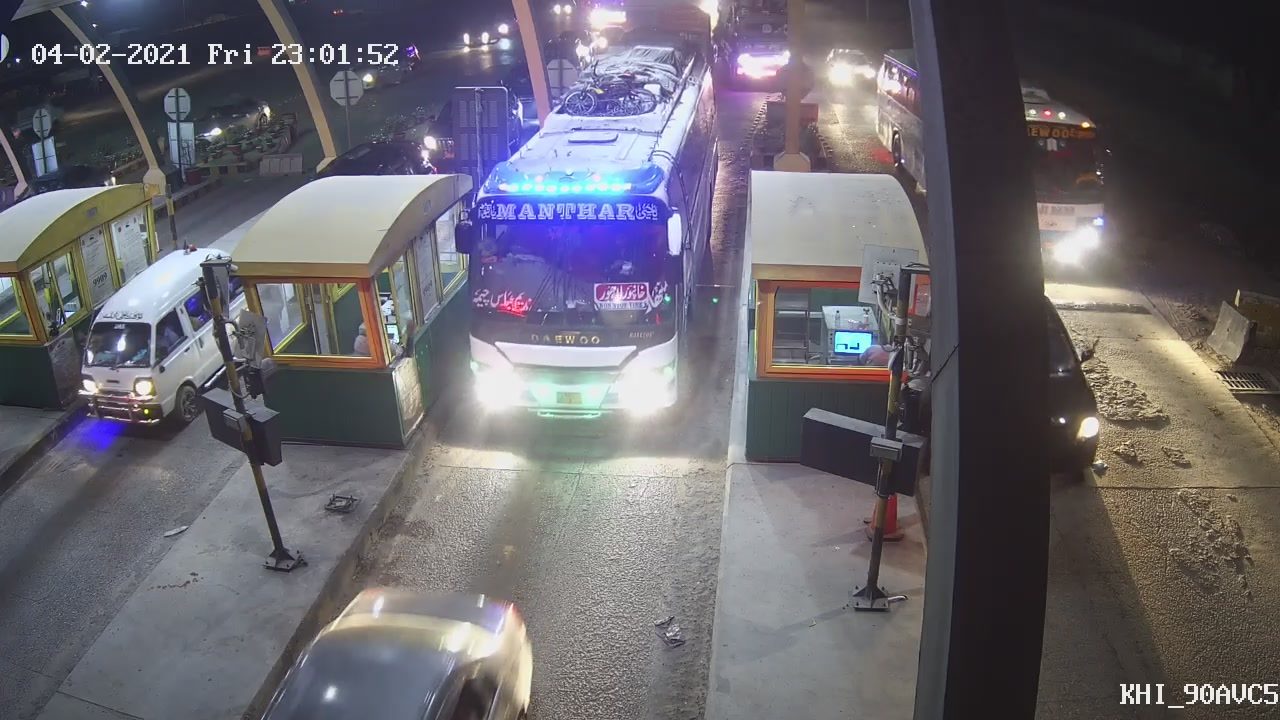F4: (451, 52, 717, 435)
